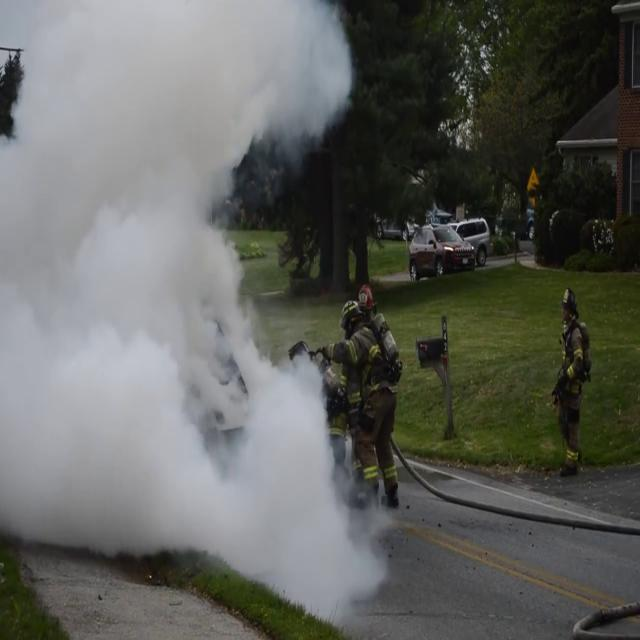Smoke: (0, 0, 382, 607)
